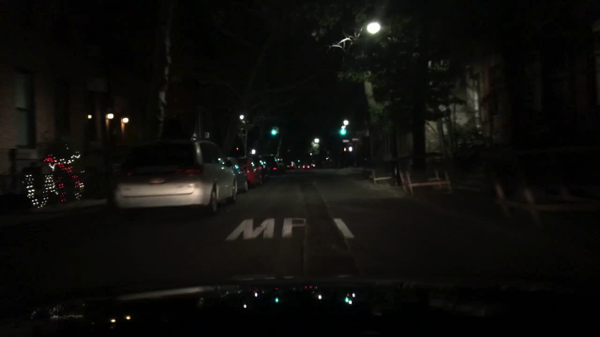car: (107, 139, 238, 215), (225, 157, 250, 192), (237, 157, 263, 188), (250, 157, 269, 181), (260, 154, 278, 176), (275, 157, 287, 174), (287, 161, 296, 168), (301, 164, 309, 169)
traffic light: (338, 129, 346, 134), (271, 128, 275, 135), (276, 127, 279, 134)
traffic sign: (341, 140, 349, 143)
